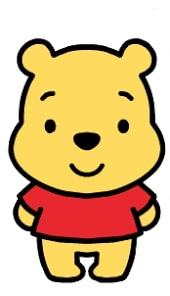Winnie: (11, 34, 164, 225)
